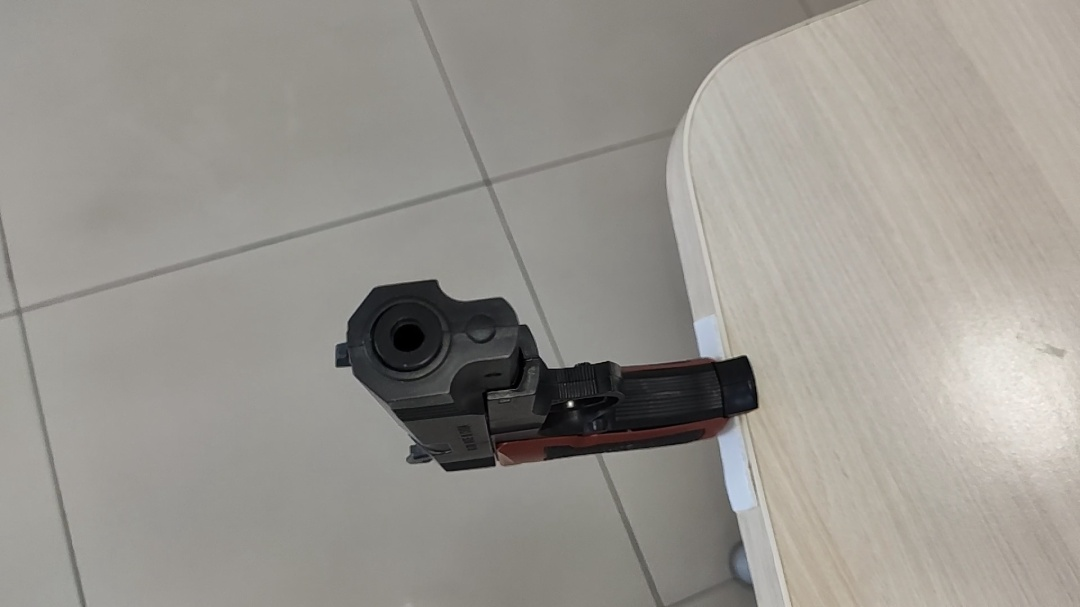gun: (333, 281, 761, 475)
